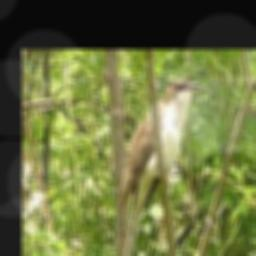Cuckoo: (119, 77, 202, 256)
